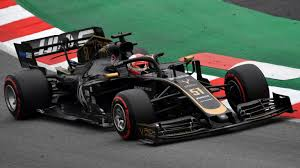FormulaOneCar: (4, 24, 297, 147)
